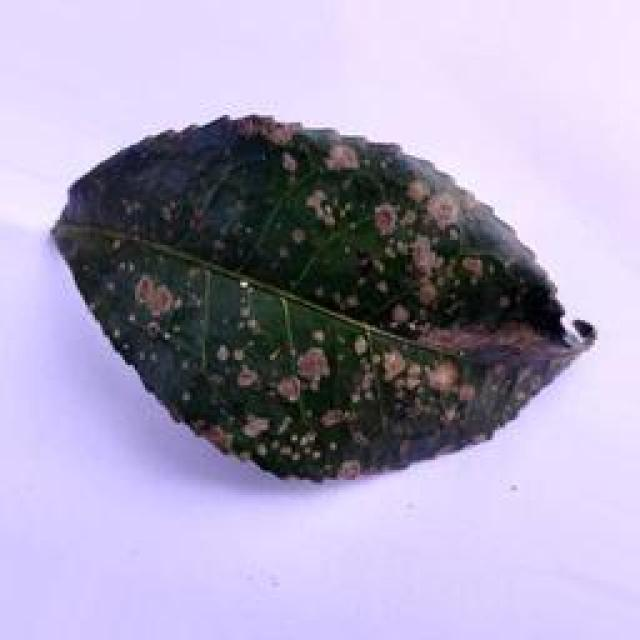Algal Leaf Spot: (47, 105, 607, 497)
